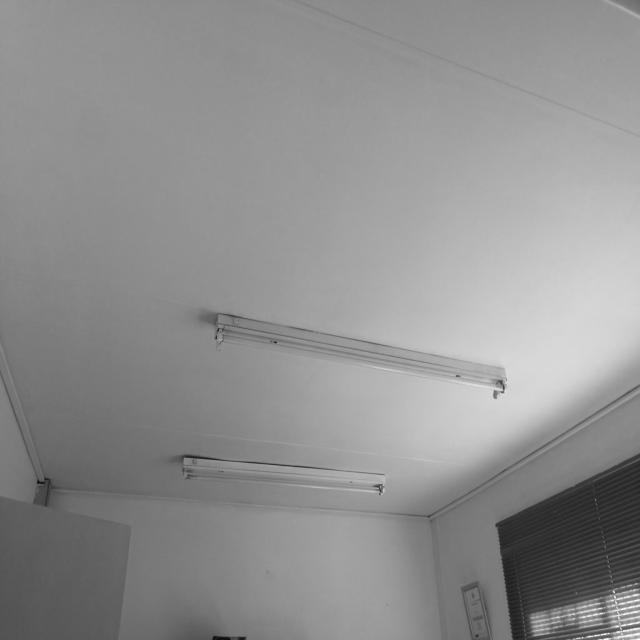light: (214, 312, 507, 399), (182, 455, 386, 496)
